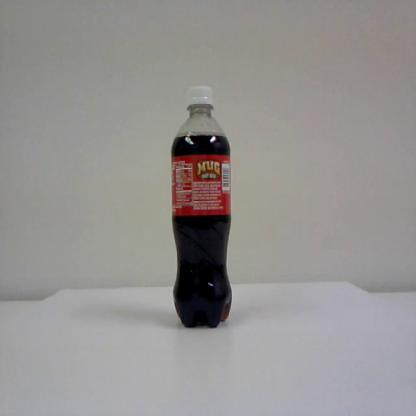bottle: (169, 85, 235, 333)
